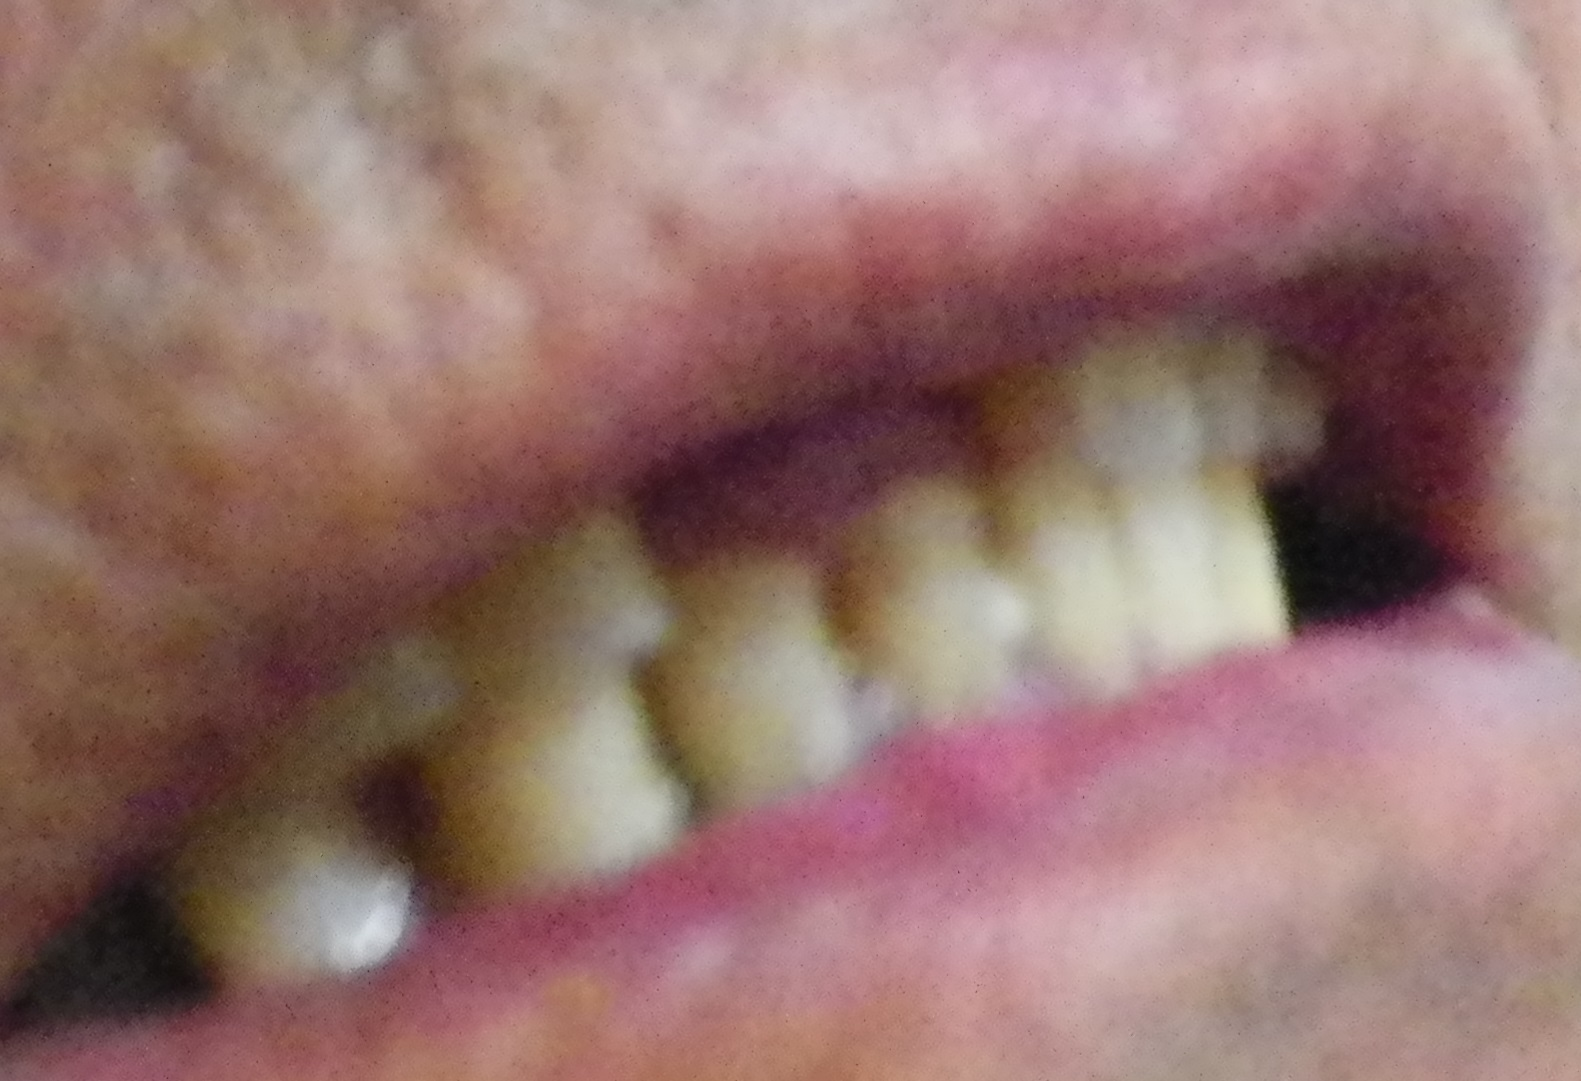boca: (199, 307, 1408, 991)
